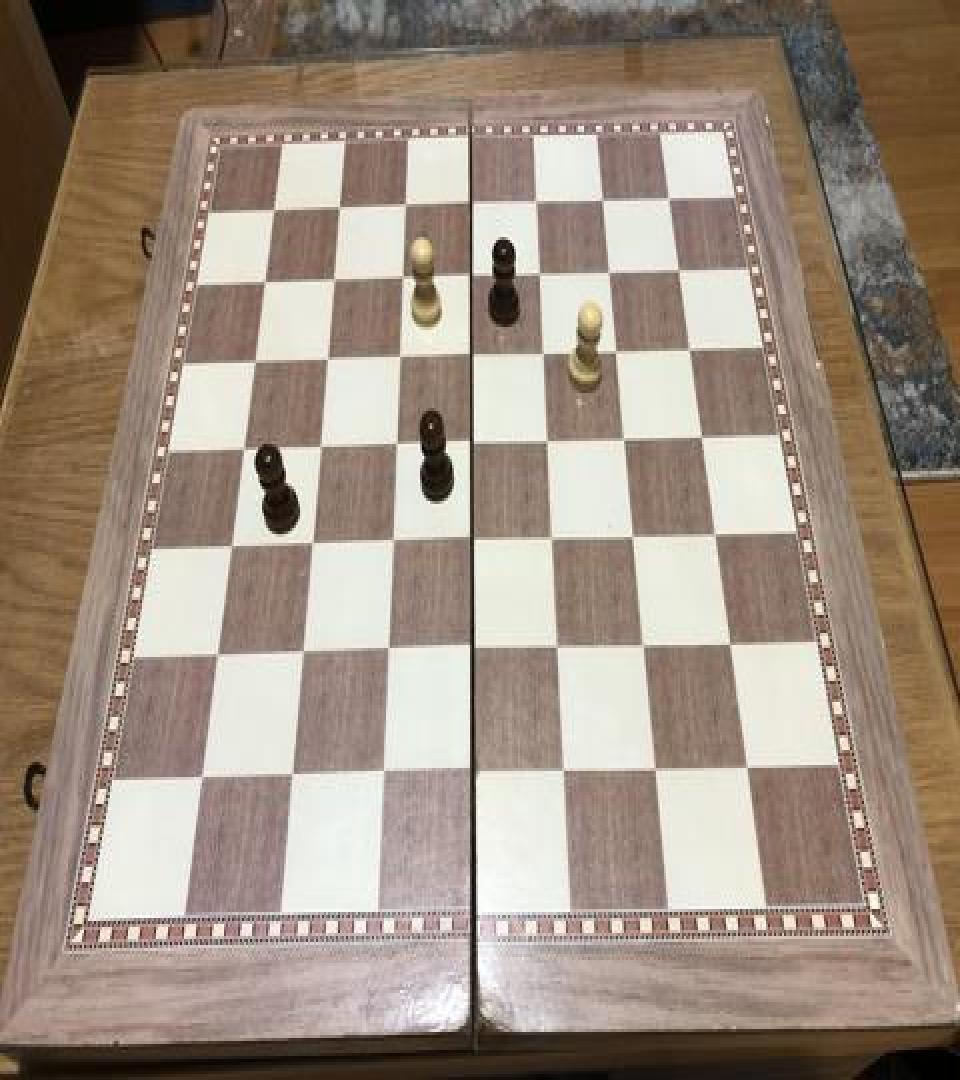xcorner: (623, 520, 647, 557), (547, 631, 571, 668), (290, 637, 314, 674), (554, 754, 578, 791), (657, 183, 681, 219), (590, 184, 614, 220), (524, 186, 548, 222), (392, 189, 416, 225), (326, 190, 350, 226), (260, 194, 284, 230), (667, 255, 691, 291), (597, 256, 621, 292), (528, 258, 552, 294), (389, 261, 413, 297), (320, 262, 344, 298), (251, 266, 275, 302), (678, 334, 702, 370), (605, 336, 629, 372), (532, 338, 556, 374), (459, 339, 483, 375), (386, 340, 410, 376), (314, 342, 338, 378), (690, 422, 714, 458), (613, 423, 637, 459), (536, 424, 560, 460), (460, 428, 484, 464), (383, 429, 407, 465), (230, 432, 254, 468), (704, 519, 728, 555), (541, 522, 565, 558), (460, 525, 484, 561), (380, 526, 404, 562), (299, 528, 323, 564), (218, 530, 242, 566), (719, 628, 743, 664), (633, 630, 657, 666), (461, 633, 485, 669), (376, 636, 400, 672), (205, 639, 229, 675), (737, 752, 761, 788), (645, 753, 669, 789), (462, 756, 486, 792), (371, 758, 395, 794), (280, 760, 304, 796), (189, 762, 213, 798), (458, 188, 482, 223), (458, 260, 482, 295), (241, 344, 265, 379), (307, 431, 331, 466)
